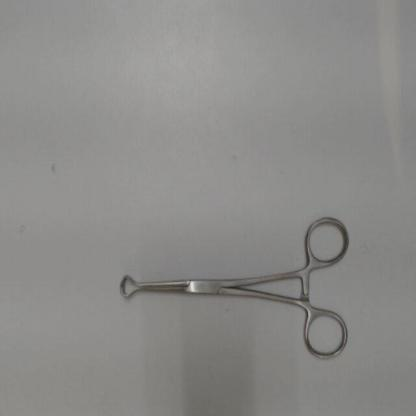Babcock Tissue Forceps: (116, 210, 354, 366)
